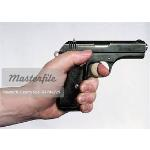Pistol: (56, 36, 148, 112)
